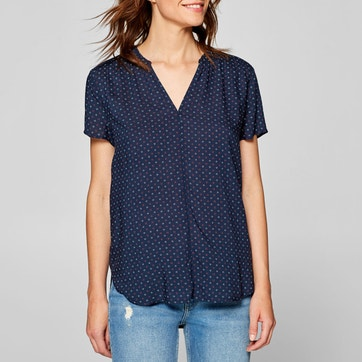C_jeans: (105, 301, 252, 362)
C_short blouse: (85, 44, 269, 307)
